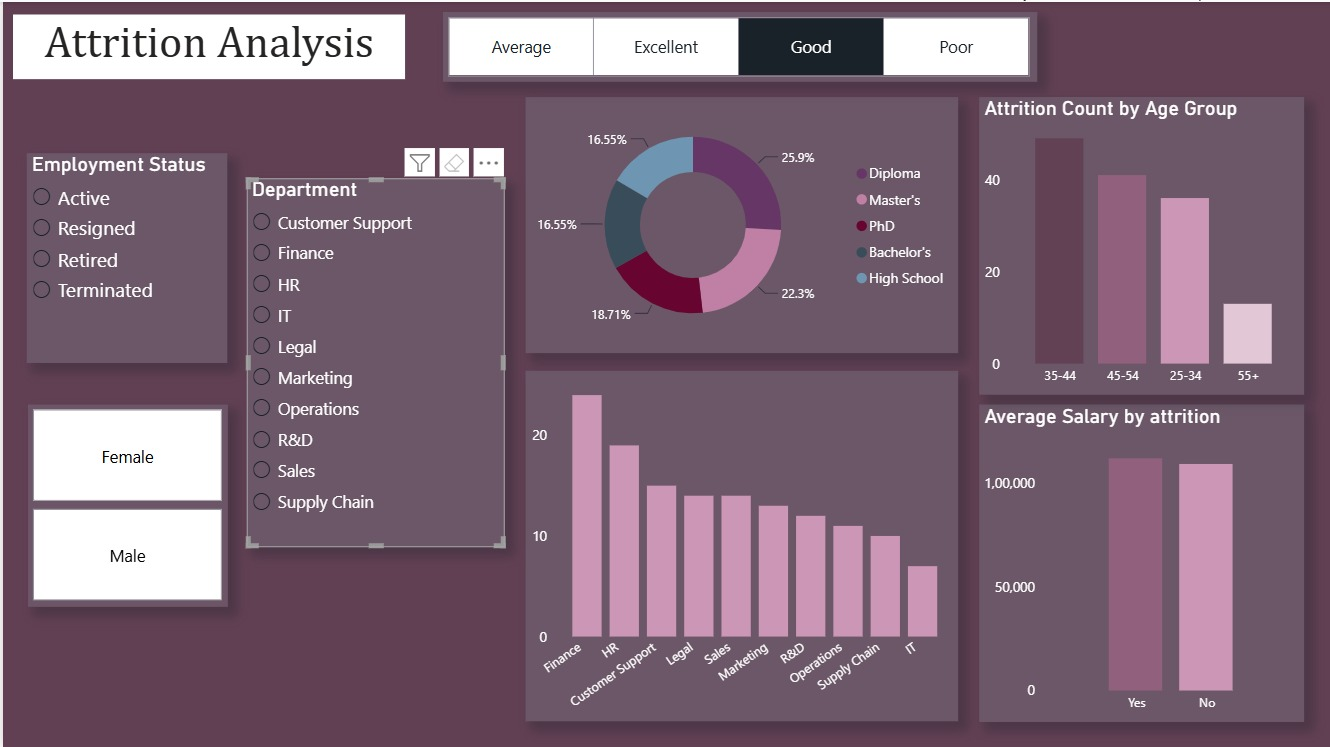

What the dashboard file says about the page in this screenshot:
{"tool":"powerbi","page":{"name":"Attrition Analysis","canvas":[1280,720],"ordinal":1},"visuals":[{"type":"textbox","box":[10,12.5,378.8,62.5],"z":0},{"type":"clusteredColumnChart","fields":{"Category":["hr employees.department"],"Y":["hr employees.Attrition Count"]},"box":[503.8,356.2,417.5,338.8],"z":1000},{"type":"clusteredColumnChart","fields":{"Category":["hr employees.Age Group"],"Y":["hr employees.Attrition Count"]},"box":[942.5,91.2,313.8,287.5],"z":2000},{"type":"clusteredColumnChart","fields":{"Category":["hr employees.attrition"],"Y":["hr employees.Average Salary"]},"box":[942.5,388.8,313.8,306.2],"z":3000},{"type":"donutChart","fields":{"Category":["hr employees.education_level"],"Y":["hr employees.Attrition Count"]},"box":[503.8,91.2,417.5,247.5],"z":4000},{"type":"advancedSlicerVisual","fields":{"Values":["hr employees.performance_rating"]},"box":[425,10,573.8,67.5],"z":5000},{"type":"listSlicer","title":"Department","fields":{"Values":["hr employees.department"]},"box":[235,170,248.8,356.2],"z":6000},{"type":"advancedSlicerVisual","fields":{"Values":["hr employees.gender"]},"box":[23.8,388.8,192.5,195],"z":7000},{"type":"listSlicer","title":"Employment Status","fields":{"Values":["hr employees.employment_status"]},"box":[22.5,146.2,193.8,202.5],"z":8000}]}

Visuals, with their boxes in screenshot pixels (x1, y1, x2, y2), scaled from the page's 1280x720 canvas onto the 1330x747 screenshot:
textbox: {"x1": 10, "y1": 13, "x2": 404, "y2": 78}
clusteredColumnChart - hr employees.department x hr employees.Attrition Count: {"x1": 523, "y1": 370, "x2": 957, "y2": 721}
clusteredColumnChart - hr employees.Age Group x hr employees.Attrition Count: {"x1": 979, "y1": 95, "x2": 1305, "y2": 393}
clusteredColumnChart - hr employees.attrition x hr employees.Average Salary: {"x1": 979, "y1": 403, "x2": 1305, "y2": 721}
donutChart - hr employees.education_level x hr employees.Attrition Count: {"x1": 523, "y1": 95, "x2": 957, "y2": 351}
advancedSlicerVisual - hr employees.performance_rating: {"x1": 442, "y1": 10, "x2": 1038, "y2": 80}
"Department" listSlicer: {"x1": 244, "y1": 176, "x2": 503, "y2": 546}
advancedSlicerVisual - hr employees.gender: {"x1": 25, "y1": 403, "x2": 225, "y2": 606}
"Employment Status" listSlicer: {"x1": 23, "y1": 152, "x2": 225, "y2": 362}
